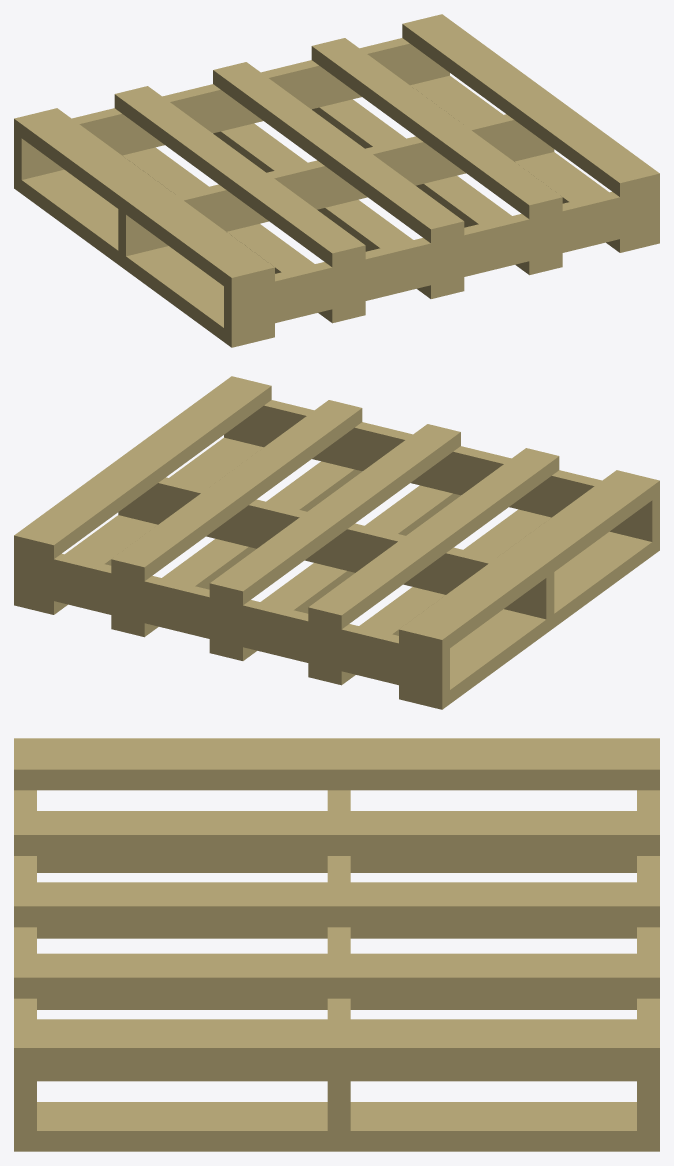
Rendered from palletSlave.obj.
3 views of the same model, one above another, from view 1: azimuth 30°, elevation 25°; view 2: azimuth 150°, elevation 25°; view 3: azimuth 270°, elevation 25° (orthographic). The views are drawn at different scales.
Size of the model in its own units: 0.3678 by 0.0574 by 0.324.
